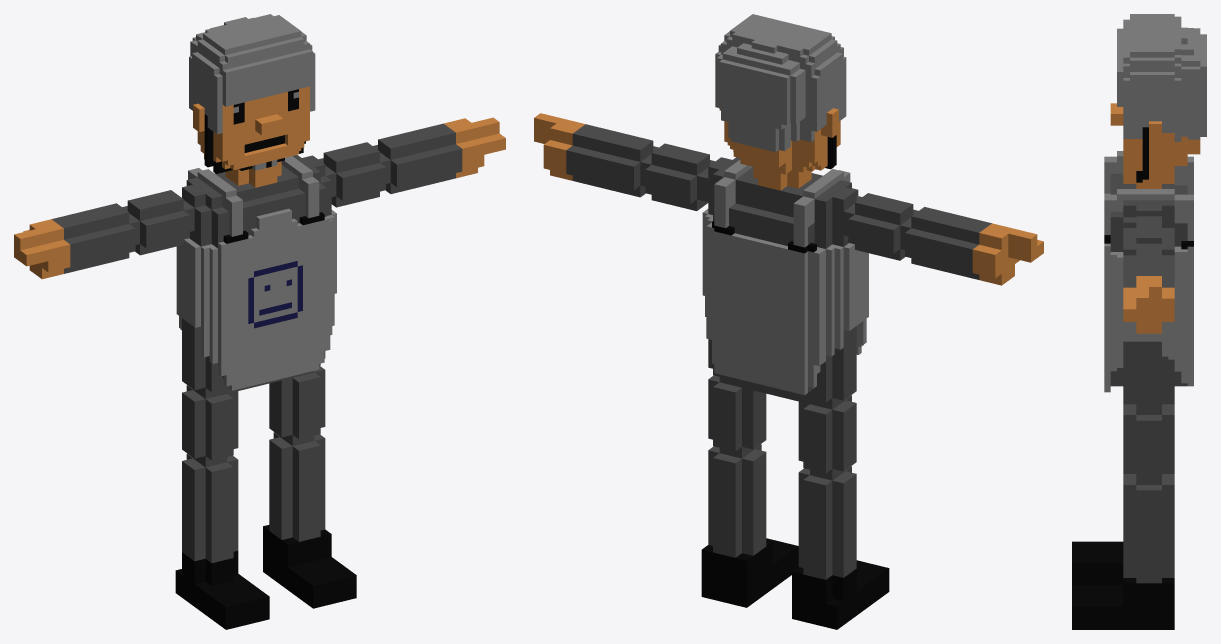
Rendered from charecter-2.obj.
3 views of the same model, side by side, from view 1: azimuth 30°, elevation 25°; view 2: azimuth 150°, elevation 25°; view 3: azimuth 270°, elevation 25° (orthographic). The views are drawn at different scales.
Bounding box in the file's own units: 8.8 × 9.7 × 2.1.
1 material, 1 textured.
